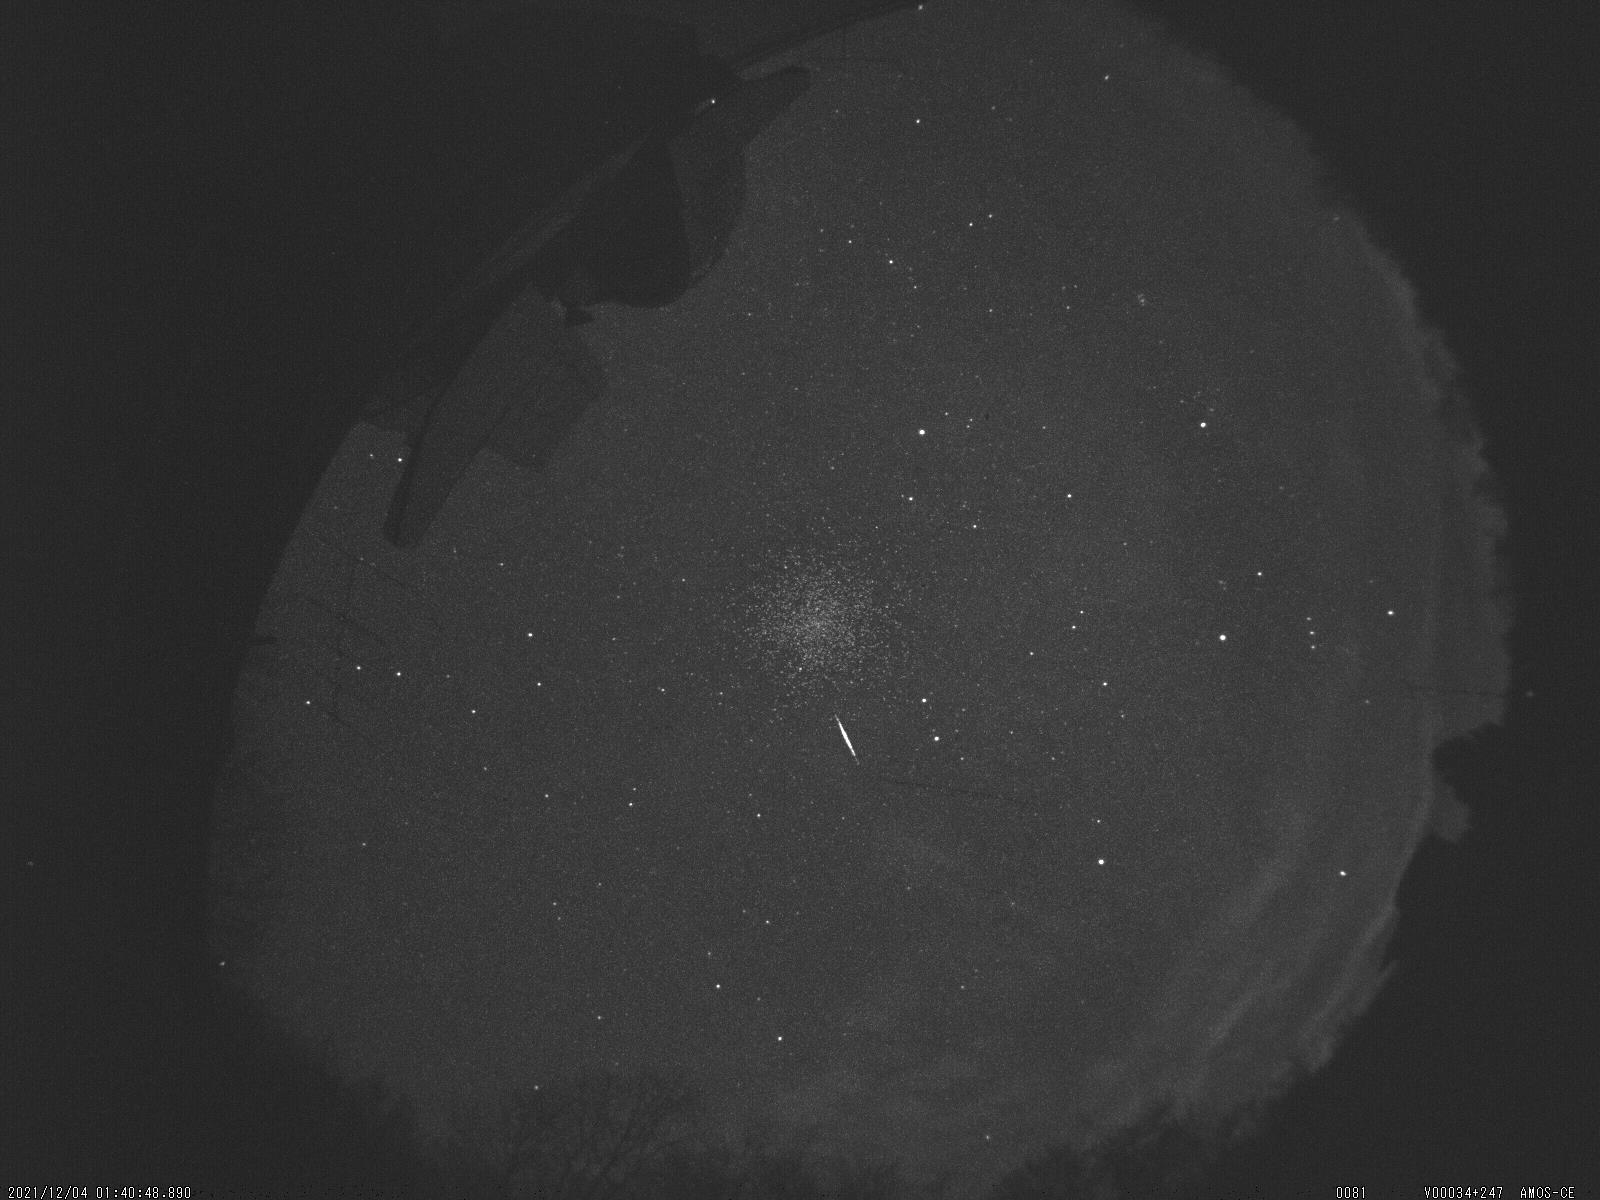Meteor: (826, 698, 869, 778)
